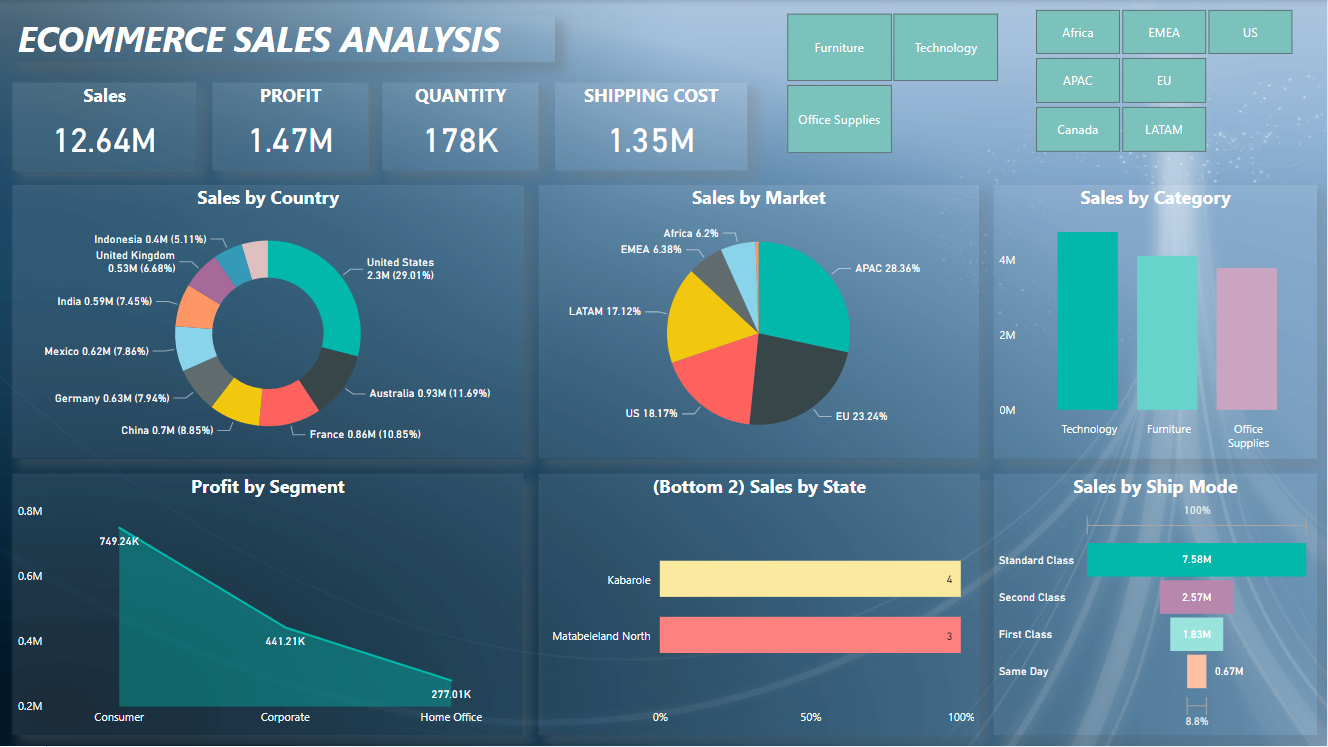

The dashboard page shown, as its layout file describes it:
{"tool":"powerbi","page":{"name":"Page 1","canvas":[1280,720],"ordinal":0},"visuals":[{"type":"columnChart","title":" Sales by Category","fields":{"Category":["Orders.Category"],"Y":["Sum(Orders.Sales)"]},"box":[958.8,178.5,312.4,264.1],"z":0},{"type":"pieChart","title":"Sales by Market","fields":{"Y":["Sum(Orders.Sales)"],"Category":["Orders.Market"]},"box":[519.8,178.5,424.5,264.1],"z":1000},{"type":"stackedAreaChart","title":"Profit by Segment","fields":{"Category":["Orders.Segment"],"Y":["Sum(Orders.Profit)"]},"box":[12.2,457.2,492.6,251.8],"z":2000},{"type":"hundredPercentStackedBarChart","title":"(Bottom 2) Sales by State","fields":{"Category":["Orders.State"],"Y":["Sum(Orders.Sales)"]},"box":[519.5,457.2,425.4,251.8],"z":3000},{"type":"funnel","title":"Sales by Ship Mode","fields":{"Y":["Sum(Orders.Sales)"],"Category":["Orders.Ship Mode"]},"box":[958.4,457.2,311.7,251.8],"z":4000},{"type":"donutChart","title":"Sales by Country","fields":{"Y":["Sum(Orders.Sales)"],"Category":["Orders.Country"]},"box":[12.1,178.5,493.3,264.1],"z":5000},{"type":"card","title":"Sales","fields":{"Values":["Sum(Orders.Sales)"]},"box":[12.1,79.6,177.3,84.4],"z":6000},{"type":"card","title":"PROFIT","fields":{"Values":["Sum(Orders.Profit)"]},"box":[205,79.6,150.8,84.4],"z":7000},{"type":"card","title":"QUANTITY","fields":{"Values":["Sum(Orders.Quantity)"]},"box":[369,79.6,150.8,84.4],"z":8000},{"type":"card","title":"SHIPPING COST","fields":{"Values":["Sum(Orders.Shipping Cost)"]},"box":[535.5,79.6,185.7,84.4],"z":9000},{"type":"slicer","fields":{"Values":["Orders.Category"]},"box":[732.8,5.5,253.9,148.2],"z":10000},{"type":"slicer","fields":{"Values":["Orders.Market"]},"box":[972.9,2.7,297.8,150.9],"z":11000},{"type":"textbox","title":"ECOMMERCE SALES ANALYSIS","box":[12.1,14.5,523.4,45.8],"z":12000}]}

Visuals, with their boxes in screenshot pixels (x1, y1, x2, y2), scaled from the page's 1280x720 canvas onto the 1328x747 screenshot:
" Sales by Category" columnChart: crop(995, 185, 1319, 459)
"Sales by Market" pieChart: crop(539, 185, 980, 459)
"Profit by Segment" stackedAreaChart: crop(13, 474, 524, 736)
"(Bottom 2) Sales by State" hundredPercentStackedBarChart: crop(539, 474, 980, 736)
"Sales by Ship Mode" funnel: crop(994, 474, 1318, 736)
"Sales by Country" donutChart: crop(13, 185, 524, 459)
"Sales" card: crop(13, 83, 197, 170)
"PROFIT" card: crop(213, 83, 369, 170)
"QUANTITY" card: crop(383, 83, 539, 170)
"SHIPPING COST" card: crop(556, 83, 748, 170)
slicer - Orders.Category: crop(760, 6, 1024, 159)
slicer - Orders.Market: crop(1009, 3, 1318, 159)
"ECOMMERCE SALES ANALYSIS" textbox: crop(13, 15, 556, 63)
